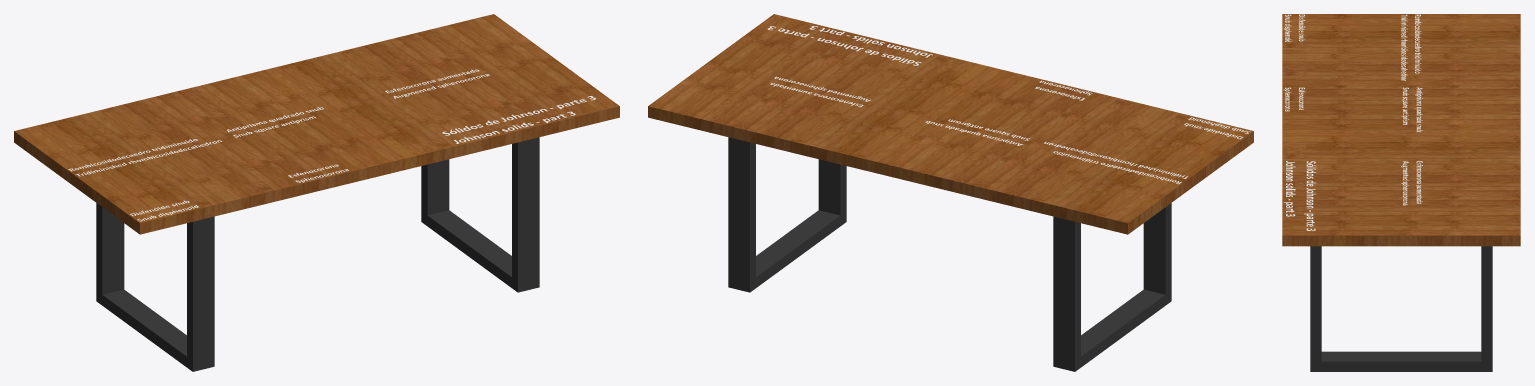
The model's file is johnson3e.glb.
The picture shows the model from 3 angles, left to right: view 1: azimuth 30°, elevation 25°; view 2: azimuth 150°, elevation 25°; view 3: azimuth 270°, elevation 25°; orthographic projection. The views are drawn at different scales.
Visible parts, largest first — view 1: object 1, Composant#1 (×2), Sólidos de Johns#2, Rombicosidodecae; view 2: object 1, Composant#1 (×2), Sólidos de Johns#2, Rombicosidodecae; view 3: object 1, Composant#1, Sólidos de Johns#2, Rombicosidodecae, Esfenocorona aum, Antiprisma quadr, Disfenóide snub, Esfenocorona Sph.
Part boxes in pixels (bbox=[...]): object 1: bbox=[14, 14, 619, 234]; Composant#1 (×2): bbox=[96, 137, 539, 371]; Sólidos de Johns#2: bbox=[442, 96, 595, 143]; Rombicosidodecae: bbox=[68, 139, 221, 176]; object 1: bbox=[648, 14, 1253, 234]; Composant#1 (×2): bbox=[728, 137, 1171, 371]; Sólidos de Johns#2: bbox=[767, 26, 932, 65]; Rombicosidodecae: bbox=[1044, 141, 1187, 184]; object 1: bbox=[1282, 14, 1520, 246]; Composant#1: bbox=[1310, 246, 1492, 371]; Sólidos de Johns#2: bbox=[1283, 161, 1316, 230]; Rombicosidodecae: bbox=[1401, 14, 1421, 80]; Esfenocorona aum: bbox=[1401, 161, 1422, 205]; Antiprisma quadr: bbox=[1401, 87, 1422, 131]; Disfenóide snub: bbox=[1284, 14, 1305, 41]; Esfenocorona Sph: bbox=[1283, 87, 1304, 111].
Bounding box in the file's own units: 2.2 × 0.7711 × 1.
3 materials, 1 textured.
